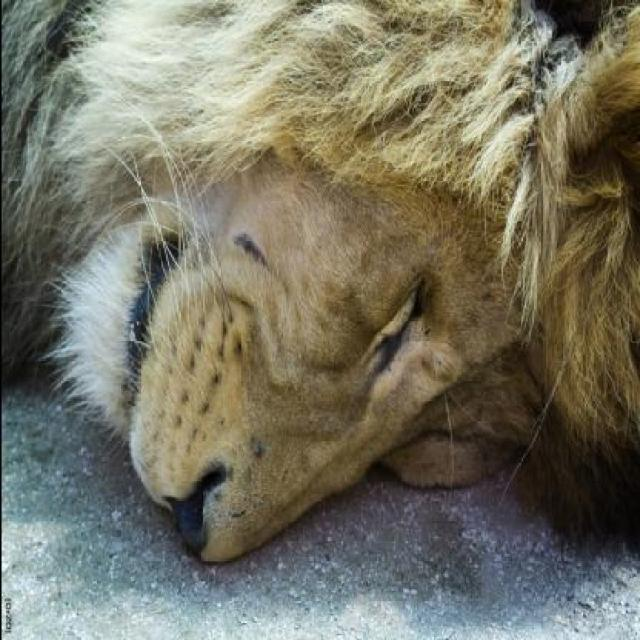Lion: (2, 6, 626, 597)
